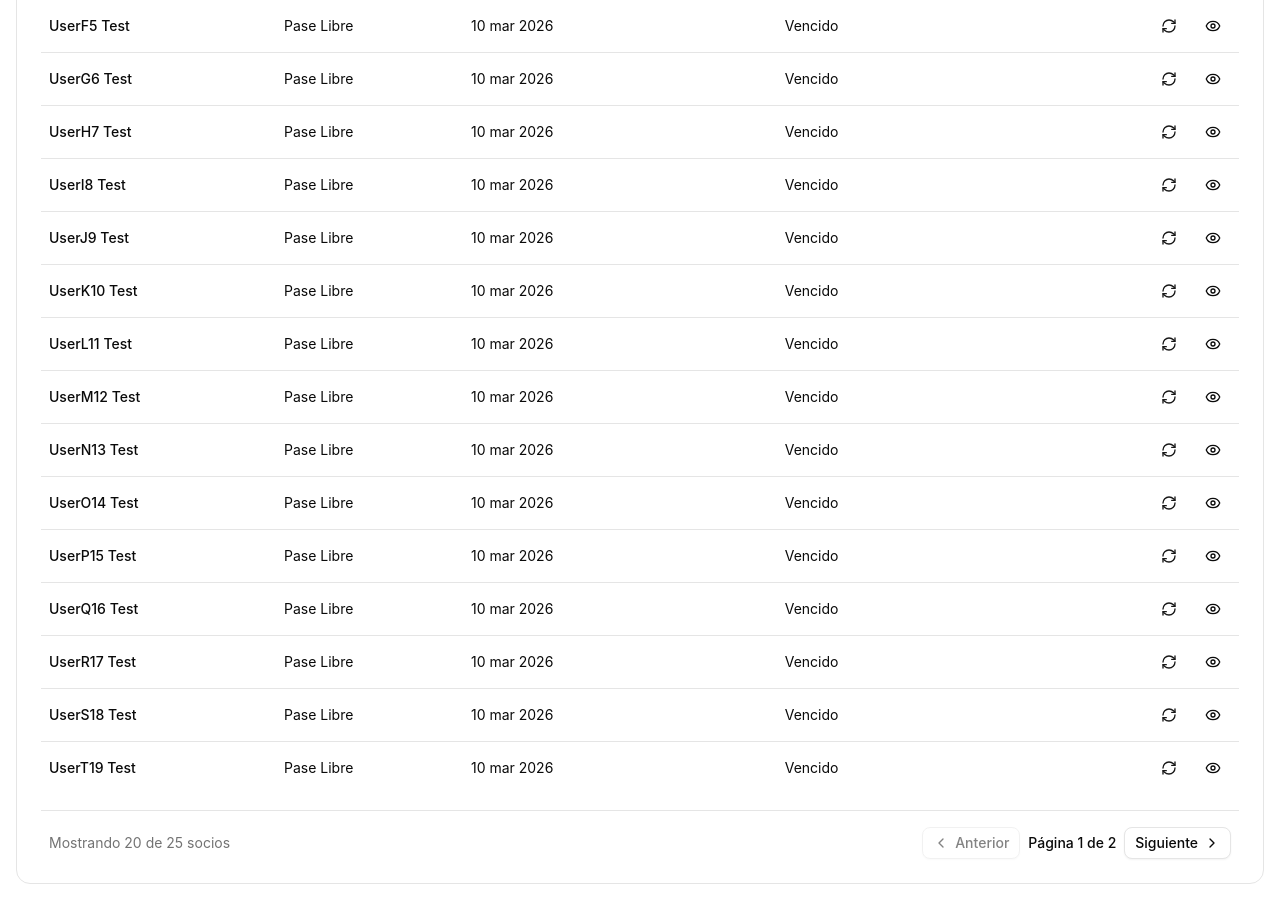
Test: ExpiringMembersPage › should paginate results
The image size is (1280, 900).
(page scrolled)
Expected: the text "UserT19 Test" is shown, [41, 741, 276, 794]
Expected: the text "UserU20" is not shown
Click the button "Siguiente" at (1178, 842), box [1124, 826, 1231, 858]
(page scrolled)
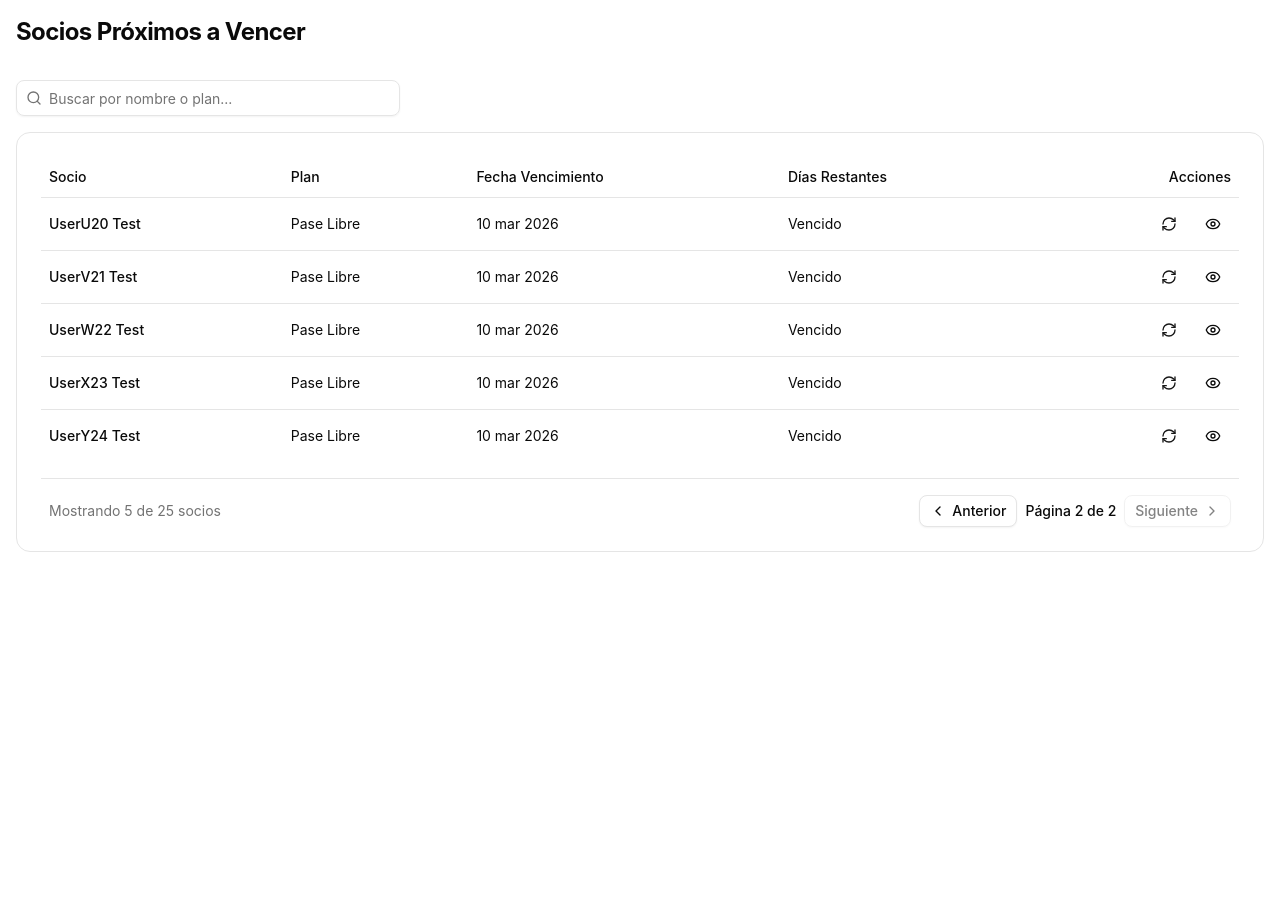
Result: the text "UserU20 Test" is shown at [41, 197, 283, 250]
Result: the text "UserY24 Test" is shown at [41, 409, 283, 462]
